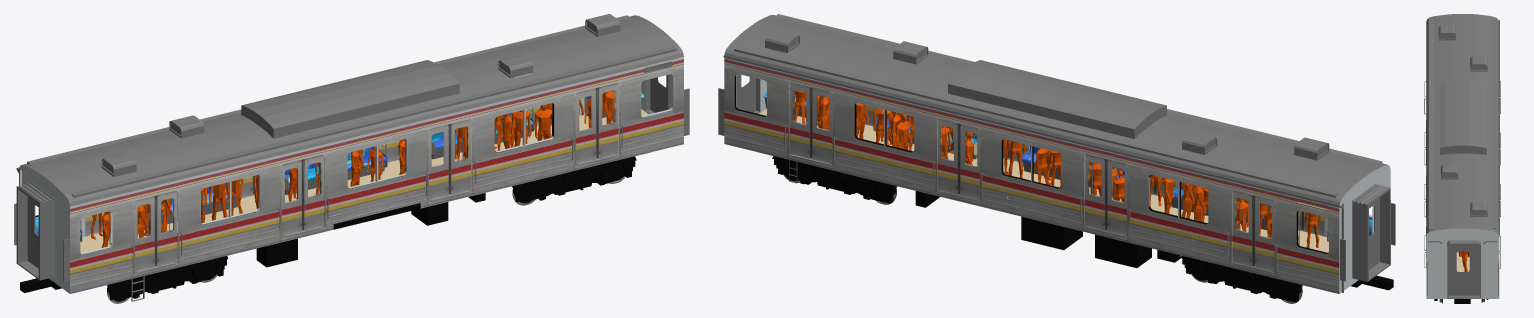
The model's file is train-medium.glb.
3 views of the same model, side by side, from view 1: azimuth 30°, elevation 25°; view 2: azimuth 150°, elevation 25°; view 3: azimuth 270°, elevation 25° (orthographic). The views are drawn at different scales.
Visible parts, largest first — view 1: Full Train.002, Door.032, Peron Door.002, Peron Door 2.002, Cylinder.129, Cylinder.016, Cylinder.037; view 2: Full Train.002, Door.032, Peron Door.002, Peron Door 2.002; view 3: Full Train.002, Peron Door 2.002, Cylinder.082.
Boxes of the visible parts, bbox=[...] form: Full Train.002: bbox=[14, 14, 689, 303]; Door.032: bbox=[85, 83, 618, 272]; Peron Door.002: bbox=[27, 196, 38, 268]; Peron Door 2.002: bbox=[650, 75, 668, 112]; Cylinder.129: bbox=[209, 182, 228, 220]; Cylinder.016: bbox=[534, 104, 552, 140]; Cylinder.037: bbox=[511, 110, 530, 146]; Full Train.002: bbox=[718, 14, 1395, 303]; Door.032: bbox=[790, 83, 1324, 271]; Peron Door.002: bbox=[1369, 197, 1379, 269]; Peron Door 2.002: bbox=[738, 74, 755, 112]; Full Train.002: bbox=[1424, 14, 1500, 303]; Peron Door 2.002: bbox=[1448, 245, 1479, 295]; Cylinder.082: bbox=[1461, 251, 1467, 271].
Bounding box in the file's own units: 21.95 × 4.62 × 3.89.
Materials: 3 (1 with a texture image).
